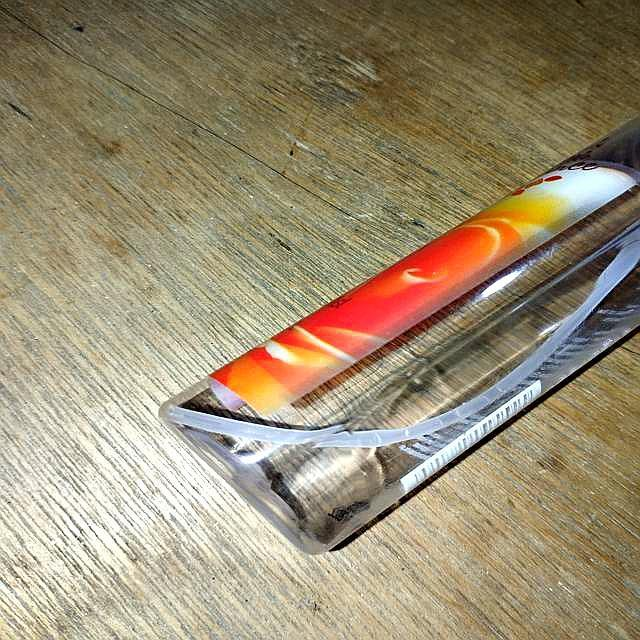Non-biodegradable: (139, 111, 640, 569)
